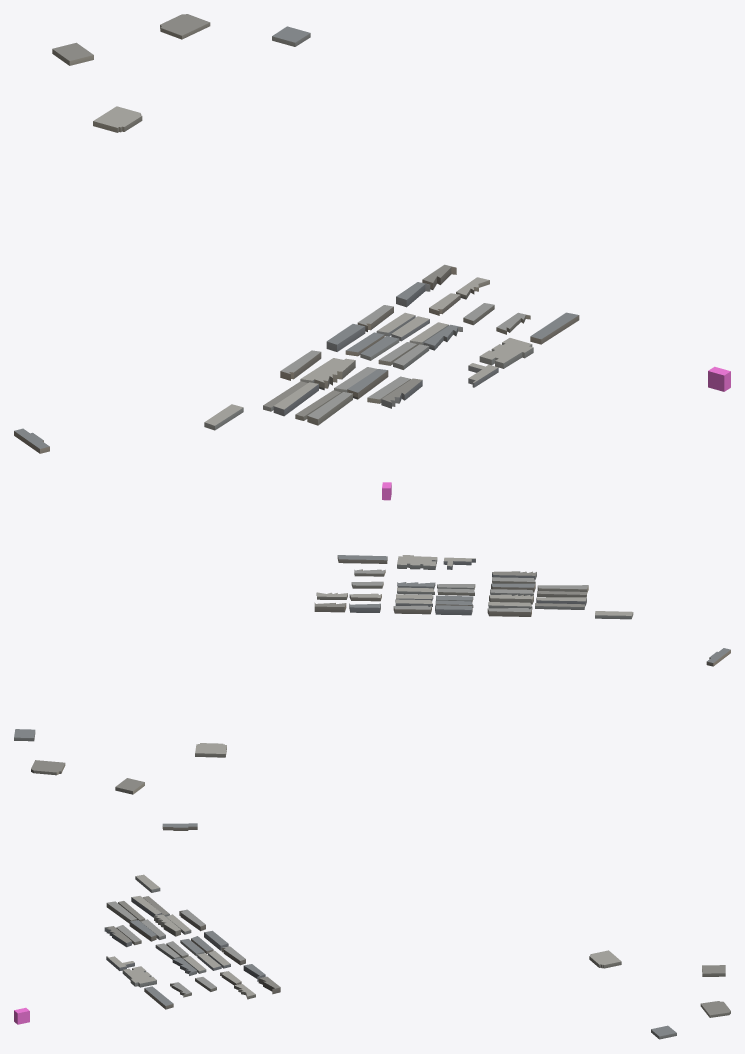
File: bld_14_6.fbx
3 renders of one model, top to bottom at view 1: azimuth 30°, elevation 25°; view 2: azimuth 150°, elevation 25°; view 3: azimuth 270°, elevation 25°, orthographic. The views are drawn at different scales.
Parts seen in each view (by area): view 1: bld_14_6_LOD0; view 2: bld_14_6_LOD0; view 3: bld_14_6_LOD0.
Part boxes in pixels (x1,y1,x2,y2): bld_14_6_LOD0: (14,14,579,453); bld_14_6_LOD0: (14,555,730,794); bld_14_6_LOD0: (104,823,730,1039).
Size of what is drawn, in the model's own units: 1355 by 33.8 by 1930.
